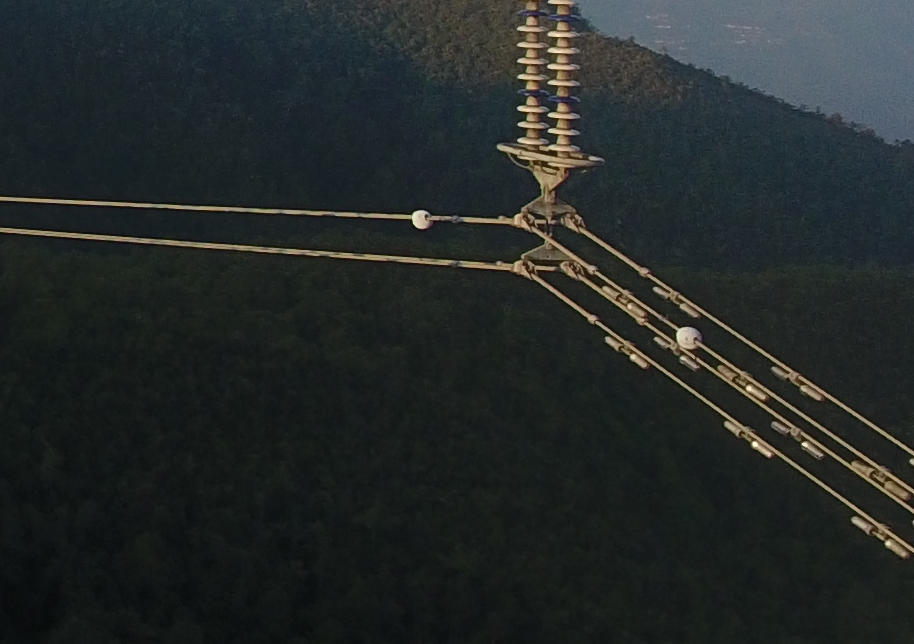damper: (848, 510, 909, 560), (849, 455, 910, 501), (770, 360, 824, 401), (772, 420, 824, 461), (725, 419, 774, 461), (716, 362, 768, 401), (651, 329, 698, 371), (650, 283, 700, 319), (601, 282, 647, 319), (604, 333, 649, 369)
